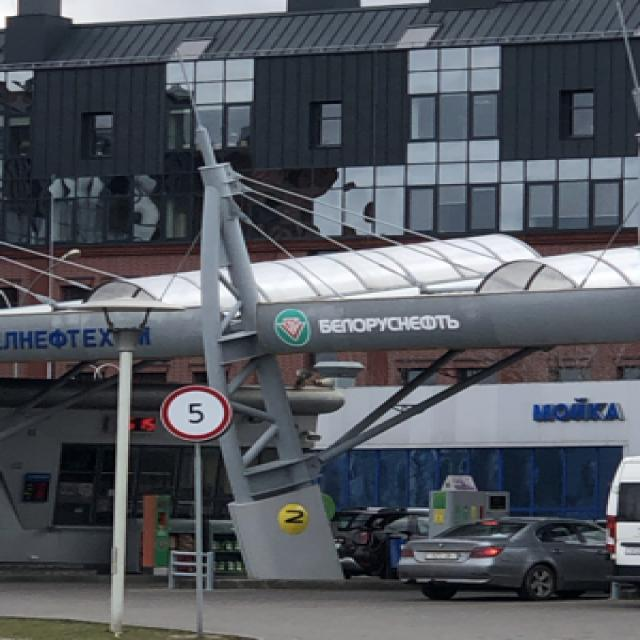speedlimit: (156, 382, 228, 440)
